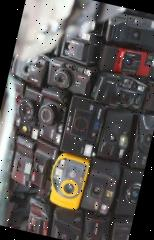electronic: (0, 0, 154, 240), (56, 96, 113, 168), (5, 38, 64, 100), (44, 52, 110, 104), (46, 148, 94, 212), (0, 127, 43, 197), (30, 81, 76, 146), (11, 85, 58, 148), (90, 64, 151, 112), (91, 40, 154, 83), (94, 102, 138, 162), (19, 134, 59, 197), (120, 111, 154, 177), (80, 156, 120, 212)
